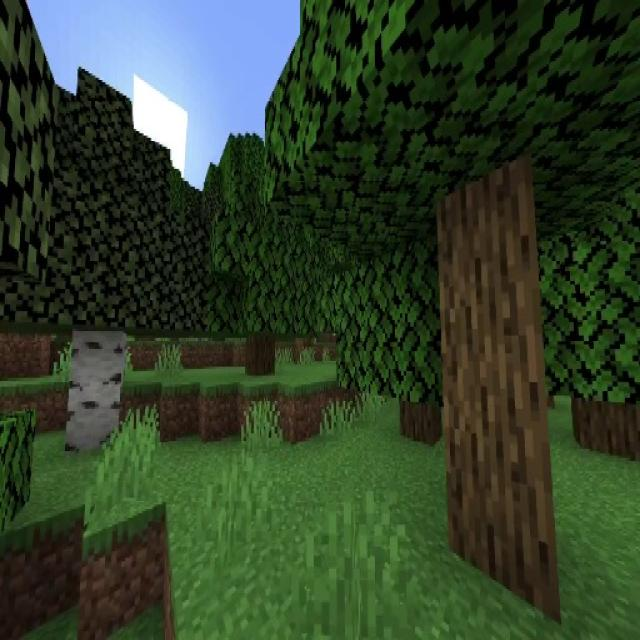birch: (0, 65, 204, 453)
birch_log: (437, 156, 557, 626), (64, 331, 128, 456), (572, 395, 640, 460)
oak: (267, 0, 640, 616), (349, 232, 495, 444), (532, 193, 640, 454), (198, 171, 323, 378)
oak_log: (399, 394, 441, 446), (246, 336, 276, 378)
